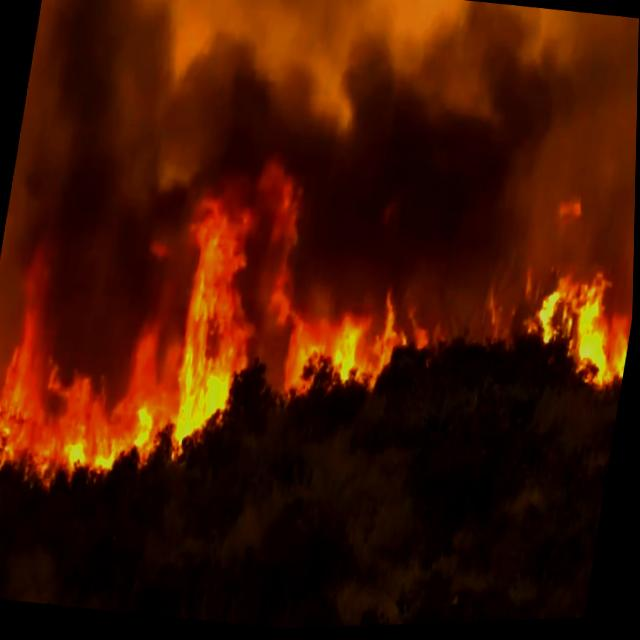fire: (137, 160, 345, 454), (0, 260, 126, 491), (521, 243, 635, 400)
smoke: (17, 0, 640, 229)
